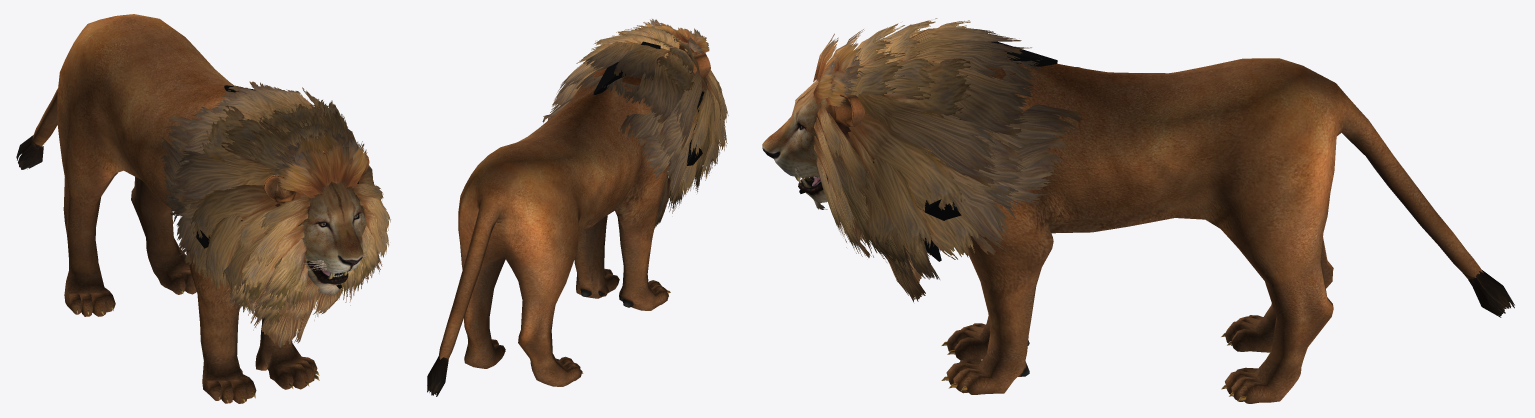
File: Arslon.fbx
The picture shows the model from 3 angles, left to right: view 1: azimuth 30°, elevation 25°; view 2: azimuth 150°, elevation 25°; view 3: azimuth 270°, elevation 25°; orthographic projection. The views are drawn at different scales.
Parts seen in each view (by area): view 1: Avatar; view 2: Avatar; view 3: Avatar.
Boxes of the visible parts, x1,y1,x2,y2 form: Avatar: (16, 14, 390, 403); Avatar: (427, 19, 728, 396); Avatar: (762, 18, 1514, 403).
Bounding box in the file's own units: 7962 × 13457 × 26838.
1 material, 1 textured.
